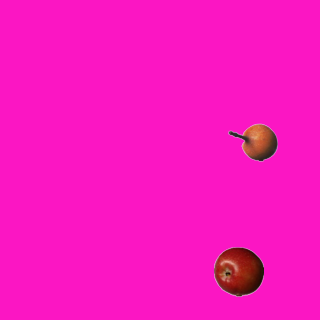Apple Braeburn: (213, 246, 263, 296)
Granadilla: (227, 117, 277, 167)
